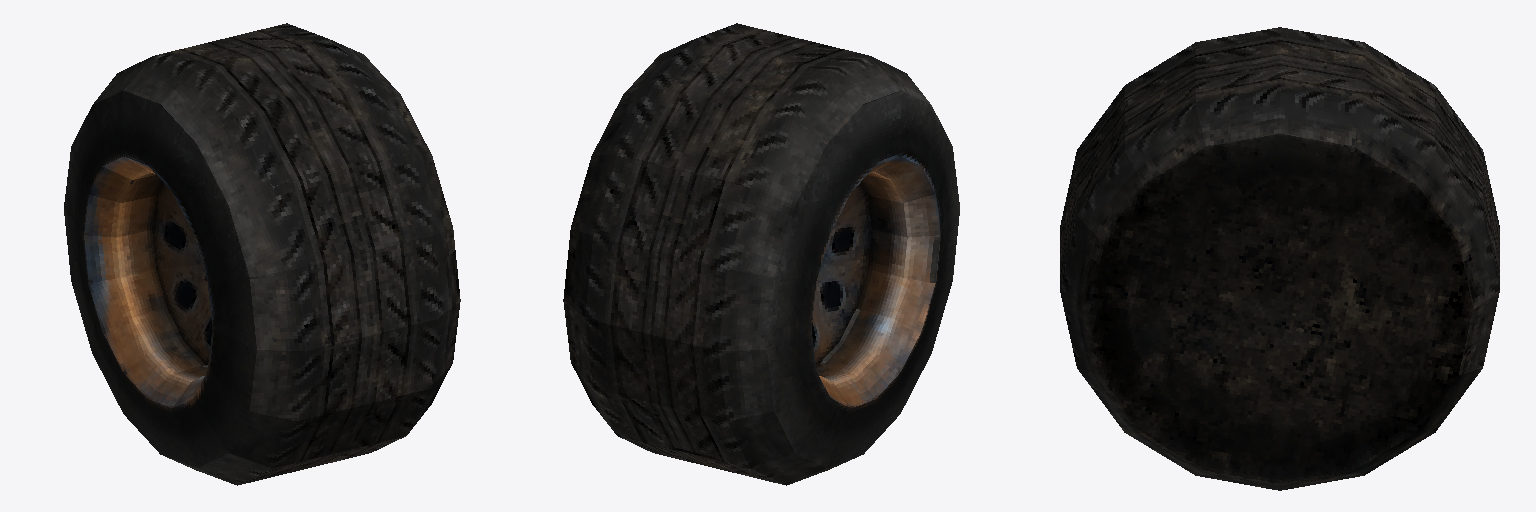
The picture shows the model from 3 angles: view 1: azimuth 30°, elevation 25°; view 2: azimuth 150°, elevation 25°; view 3: azimuth 270°, elevation 25°; orthographic projection.
Visible parts, largest first — view 1: Camaro_Warrior_Wheel02; view 2: Camaro_Warrior_Wheel02; view 3: Camaro_Warrior_Wheel02.
Boxes of the visible parts, box(x1,y1,x2,y2) form: Camaro_Warrior_Wheel02: box(64, 23, 460, 485); Camaro_Warrior_Wheel02: box(563, 23, 959, 485); Camaro_Warrior_Wheel02: box(1060, 27, 1499, 490).
Size of the model in its own units: 3.48 by 6.14 by 6.14.
1 materials, 1 textured.